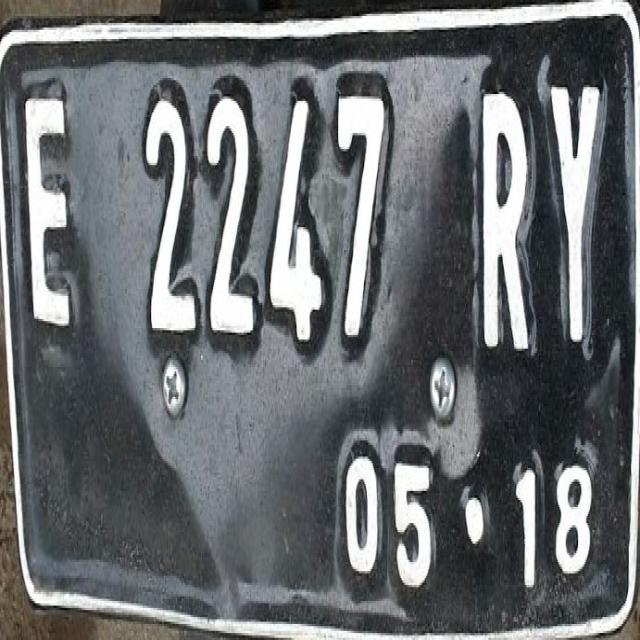plate: (1, 9, 636, 629)
